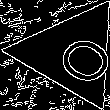O_NW: (34, 21, 109, 85)
